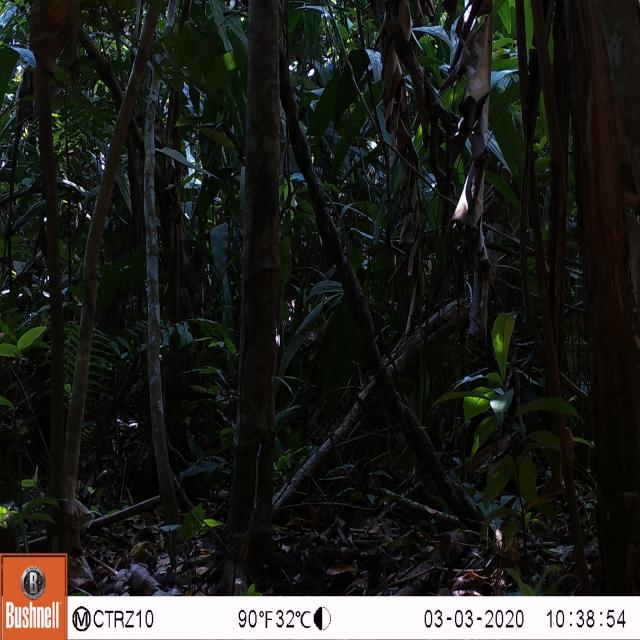Spixs Guan: (433, 367, 517, 460)
